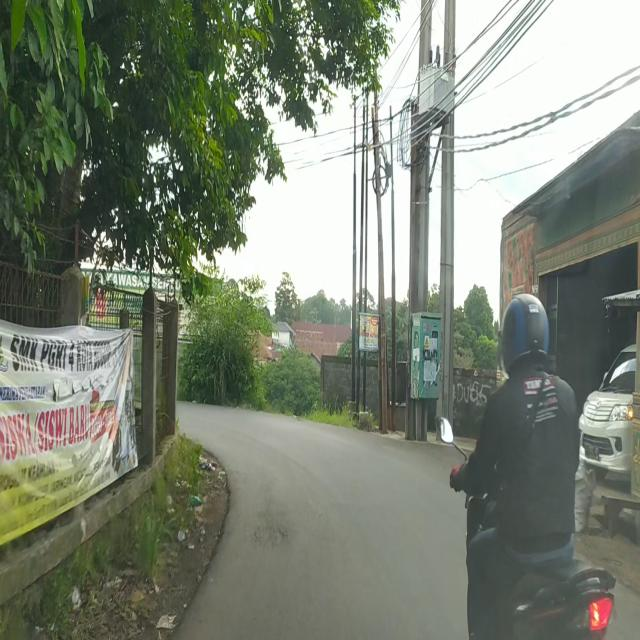Drain Hole: (248, 511, 293, 551)
